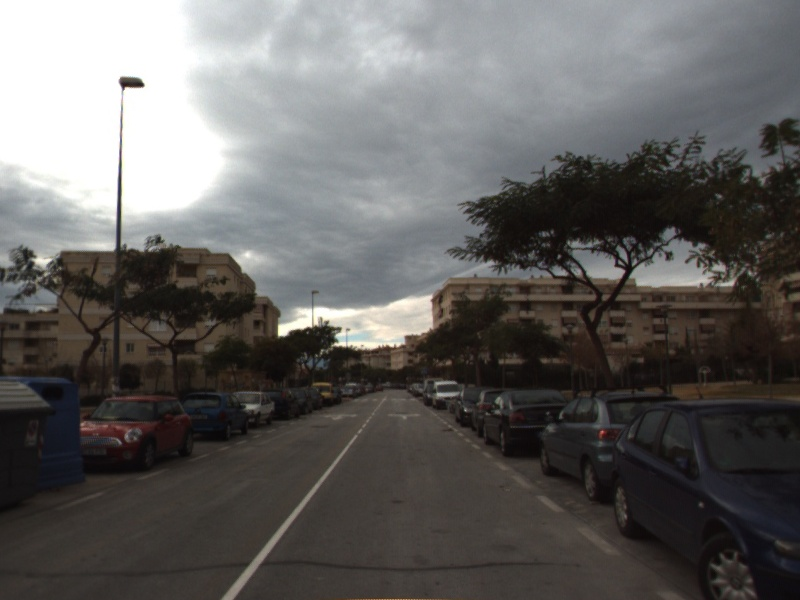LEFT_RIGHT: (385, 411, 424, 422)
